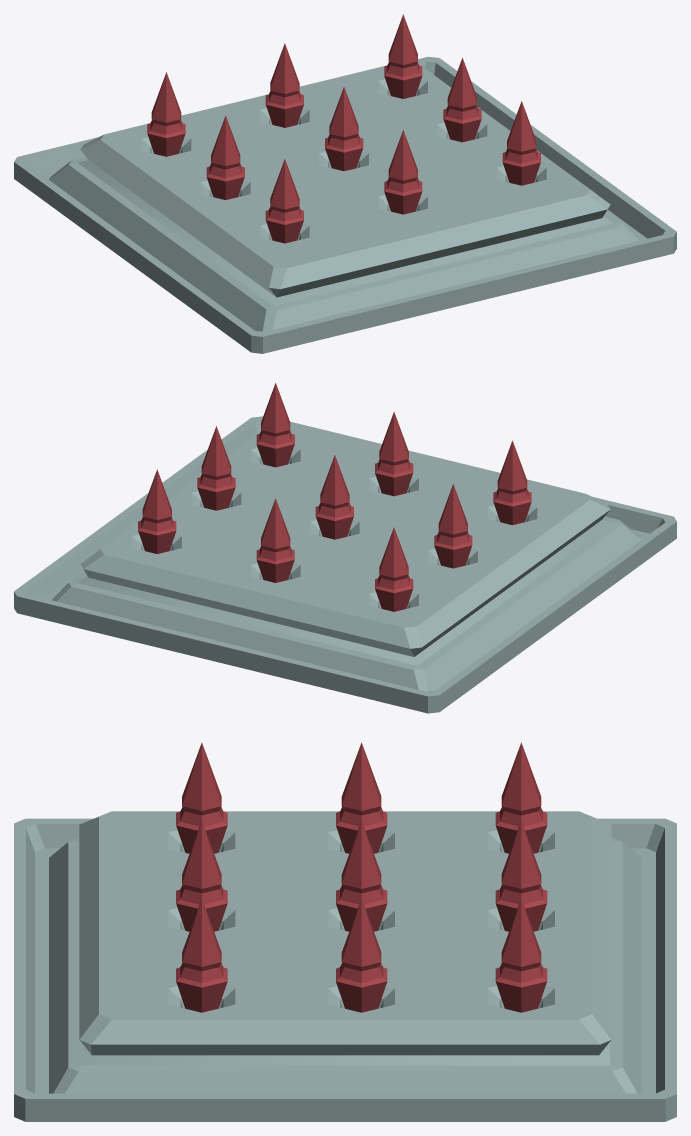
Rendered from sunkens.fbx.
3 renders of one model, top to bottom at view 1: azimuth 30°, elevation 25°; view 2: azimuth 150°, elevation 25°; view 3: azimuth 270°, elevation 25°, orthographic. The views are drawn at different scales.
Parts seen in each view (by area): view 1: Plane449, Cylinder010; view 2: Plane449, Cylinder010; view 3: Plane449, Cylinder010.
Boxes of the visible parts, x1=… form: Plane449: x1=14, y1=56, x2=676, y2=353; Cylinder010: x1=147, y1=14, x2=540, y2=243; Plane449: x1=14, y1=416, x2=676, y2=713; Cylinder010: x1=138, y1=383, x2=531, y2=611; Plane449: x1=14, y1=811, x2=676, y2=1121; Cylinder010: x1=176, y1=742, x2=547, y2=1012.
Bounding box in the file's own units: 116 × 31.78 × 116.
Materials: 1 (1 with a texture image).
